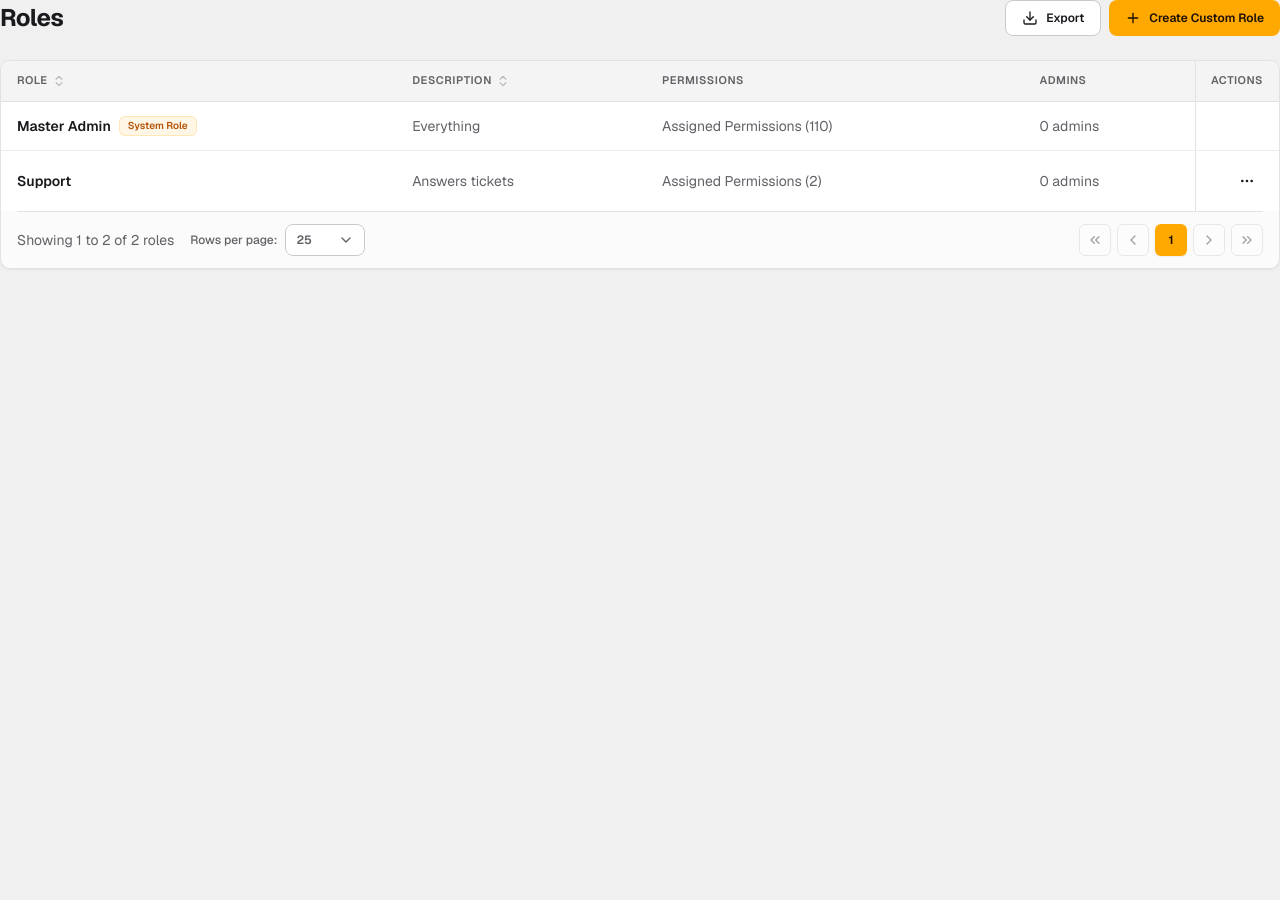
Test case: deleting a role › keeps the dialog open and shows why when the API refuses
expect the text "Support" is shown: met, box top-left (17, 171), bottom-right (71, 191)
Click the button named "actions for support".
click(1247, 181)  # box top-left (1231, 165), bottom-right (1263, 197)
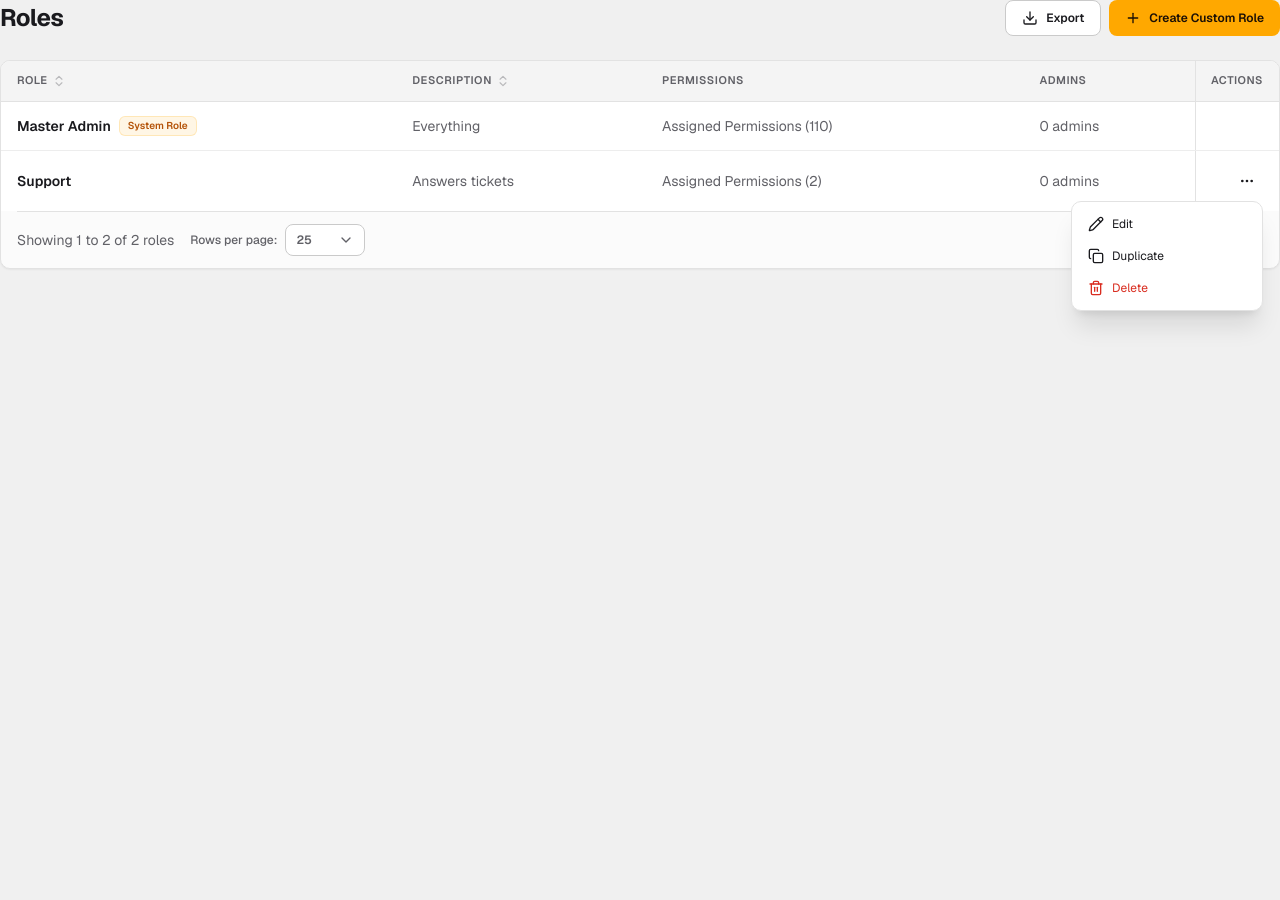
Click the menu item "Delete".
click(1118, 288)  # box top-left (1088, 280), bottom-right (1148, 296)
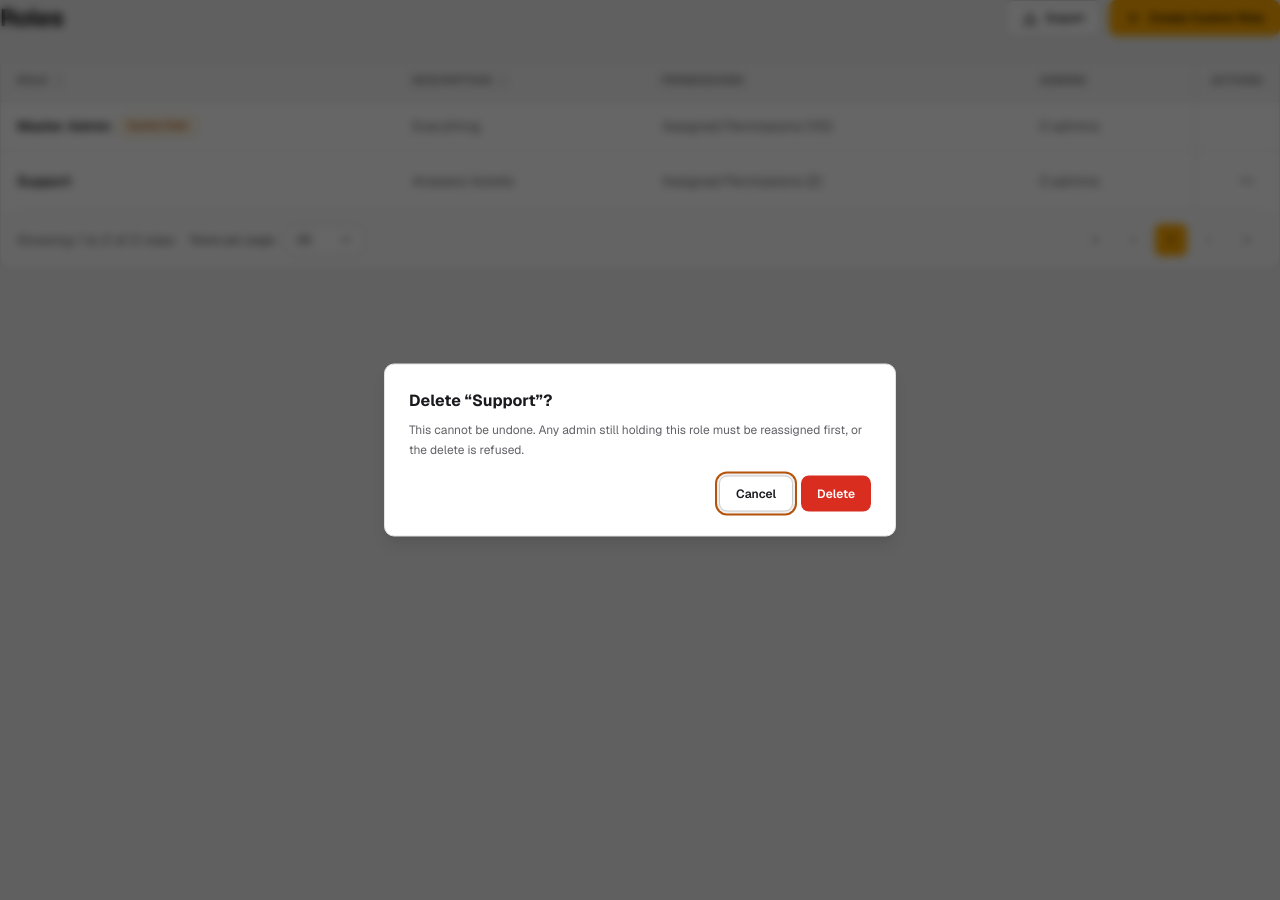
expect the dialog is shown: met, box top-left (384, 364), bottom-right (896, 536)
Click the button "Delete".
click(836, 494)  # box top-left (801, 476), bottom-right (871, 512)
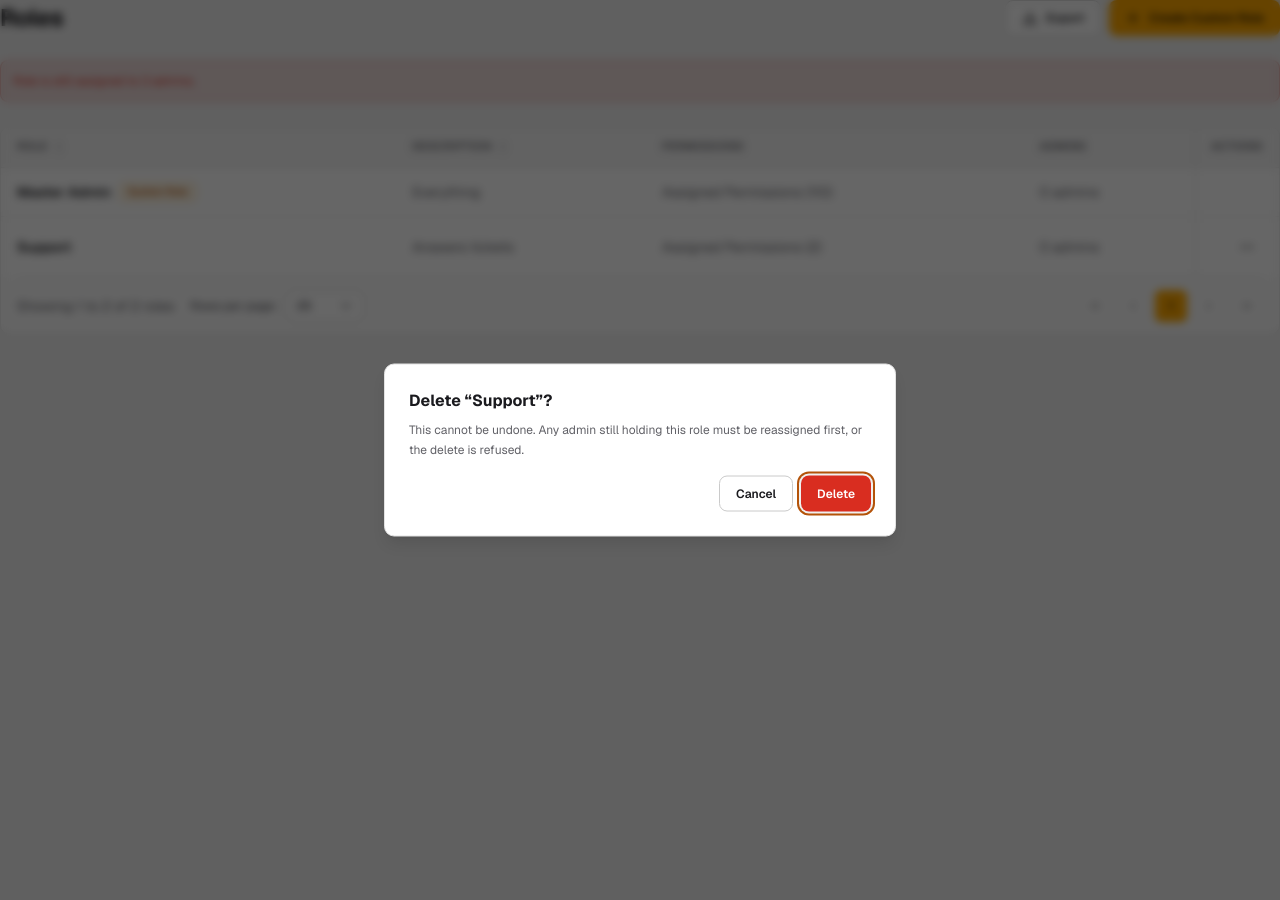
expect the dialog is shown: met, box top-left (384, 364), bottom-right (896, 536)
expect the text "Role is still assigned to 3 admins." is shown: met, box top-left (0, 60), bottom-right (1279, 102)
